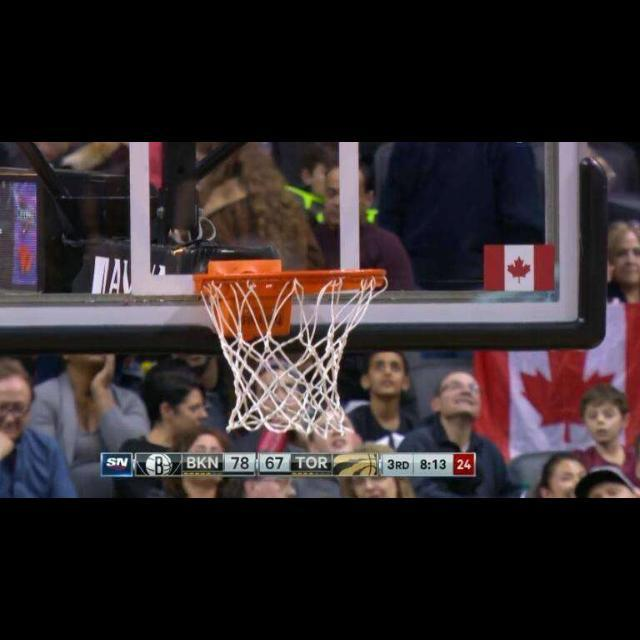rim: (198, 270, 386, 436)
